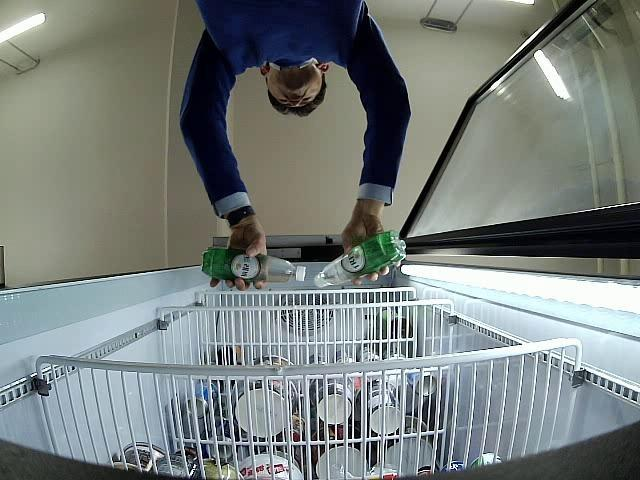18_trevi: (314, 229, 406, 288), (202, 247, 306, 286)
